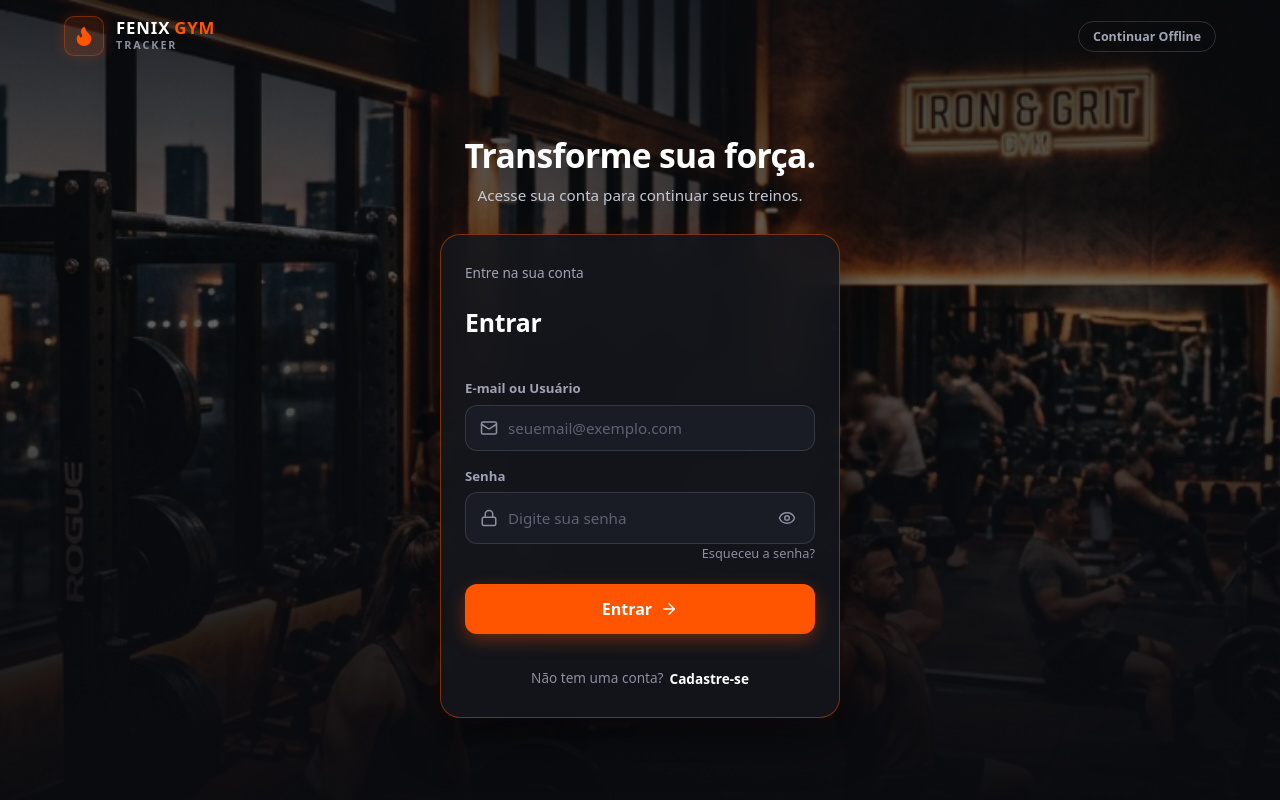
Test: App Integration › exibe a tela de login como primeira tela quando não há usuário autenticado
Expected: the heading "Transforme sua força." is shown, [464,134,816,176]
Expected: the text "Acesse sua conta para continuar seus treinos." is shown, [464,184,816,206]
// Clica em Continuar Offline para acessar a aplicação
Click the button "Continuar Offline": (1147, 36) [1078,20,1216,52]
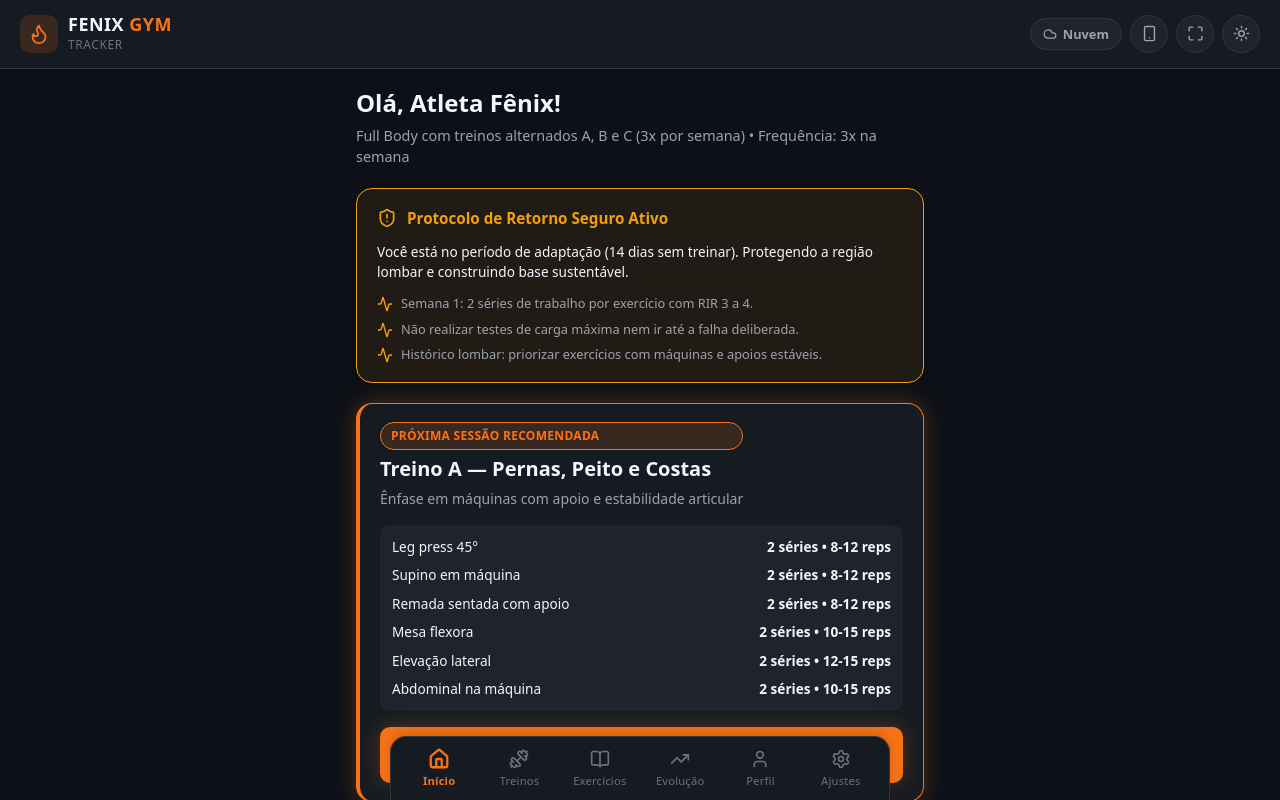
Now the heading "Olá, Atleta Fênix!" is shown, box [356,86,561,119]
